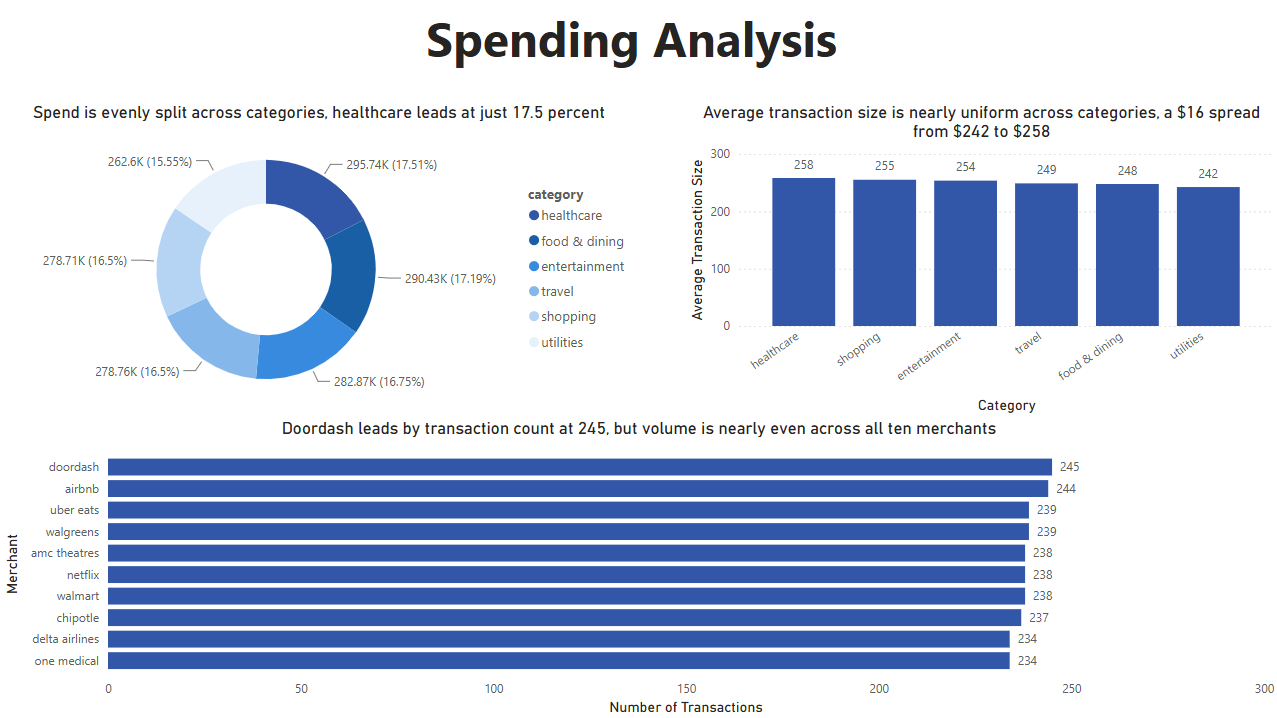

What the dashboard file says about the page in this screenshot:
{"tool":"powerbi","page":{"name":"Spending Analysis","canvas":[1280,720],"ordinal":1},"visuals":[{"type":"donutChart","title":"Spend is evenly split across categories, healthcare leads at just 17.5 percent","fields":{"Category":["fct_transactions.category"],"Y":["fct_transactions.Total Spend"]},"box":[0,102.1,640,316.1],"z":0},{"type":"clusteredBarChart","title":"Doordash leads by transaction count at 245, but volume is nearly even across all ten merchants","fields":{"Category":["fct_transactions.merchant"],"Y":["CountNonNull(fct_transactions.transaction_id)"]},"box":[0,418.2,1280,301.5],"z":1000},{"type":"clusteredColumnChart","title":"Average transaction size is nearly uniform across categories, a $16 spread from $242 to $258","fields":{"Category":["fct_transactions.category"],"Y":["Avg(fct_transactions.amount)"]},"box":[684.7,102.1,595.3,316.1],"z":2000},{"type":"textbox","box":[421.7,0,437.7,77.9],"z":3000}]}

Visuals, with their boxes in screenshot pixels (x1, y1, x2, y2), scaled from the page's 1280x720 canvas onto the 1277x718 screenshot:
"Spend is evenly split across categories, healthcare leads at just 17.5 percent" donutChart: <region>0, 102, 638, 417</region>
"Doordash leads by transaction count at 245, but volume is nearly even across all ten merchants" clusteredBarChart: <region>0, 417, 1276, 717</region>
"Average transaction size is nearly uniform across categories, a $16 spread from $242 to $258" clusteredColumnChart: <region>683, 102, 1276, 417</region>
textbox: <region>421, 0, 857, 78</region>
